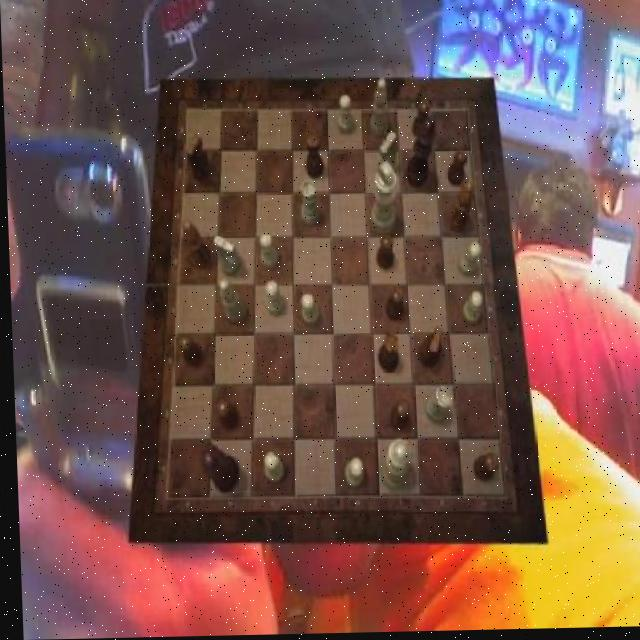bishop: (180, 219, 209, 271), (446, 183, 474, 236)
black-bishop: (402, 117, 437, 190)
black-king: (186, 135, 211, 181), (416, 329, 442, 370)
black-knight: (445, 151, 467, 189), (176, 336, 200, 369), (213, 401, 236, 434), (411, 102, 430, 141), (470, 456, 496, 484), (375, 235, 393, 271), (387, 401, 407, 432), (384, 289, 402, 323)
black-pawn: (196, 447, 236, 495)
black-queen: (374, 335, 397, 375), (303, 133, 322, 181)
black-rook: (218, 280, 243, 325), (369, 81, 388, 140)
white-bishop: (368, 164, 398, 237)
white-king: (211, 236, 240, 278), (375, 133, 396, 183)
white-knight: (455, 246, 479, 280), (460, 293, 481, 328), (335, 97, 353, 137), (264, 283, 284, 318), (261, 452, 282, 484), (258, 234, 276, 270), (299, 293, 318, 327), (341, 460, 360, 490)
white-pawn: (378, 441, 410, 494)
white-queen: (422, 389, 450, 426), (298, 182, 318, 228)
